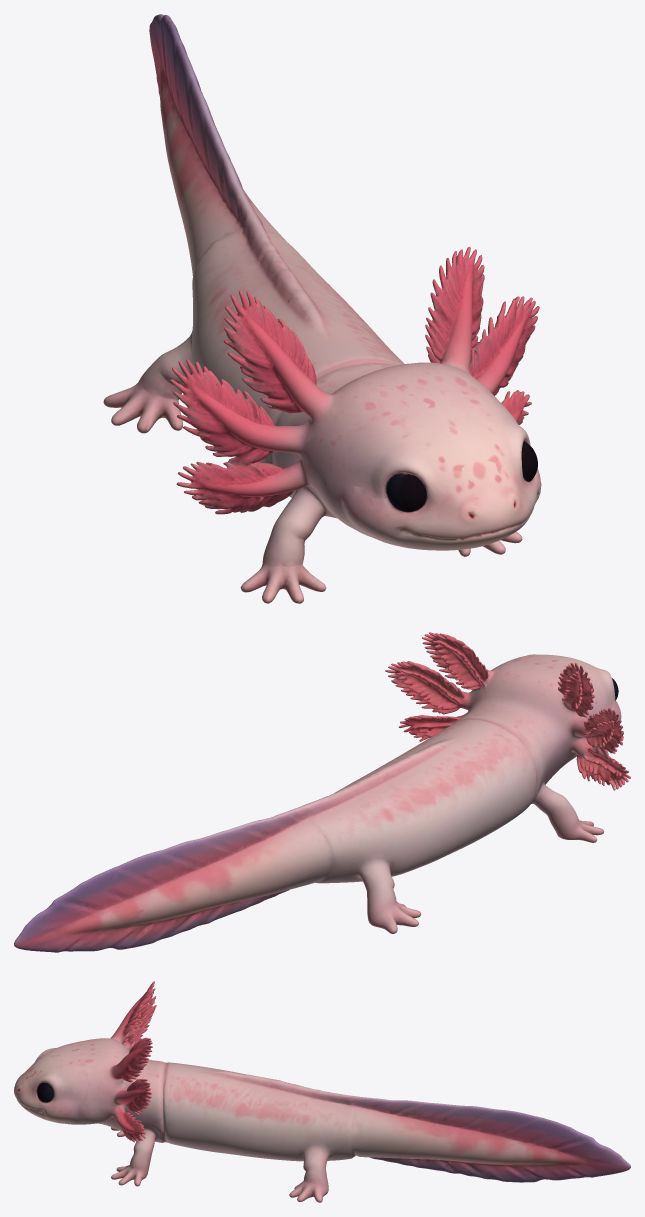
Rendered from pink_axolotl_2_reduced.glb.
3 renders of one model, top to bottom at view 1: azimuth 30°, elevation 25°; view 2: azimuth 150°, elevation 25°; view 3: azimuth 270°, elevation 25°, orthographic. The views are drawn at different scales.
Visible parts, largest first — view 1: mesh_node; view 2: mesh_node; view 3: mesh_node.
Part boxes in pixels (<box>): mesh_node: <box>103,14,541,603</box>; mesh_node: <box>14,632,630,952</box>; mesh_node: <box>14,981,630,1202</box>.
Size of the model in its own units: 0.8273 by 0.4884 by 1.9.
1 material, 1 textured.
